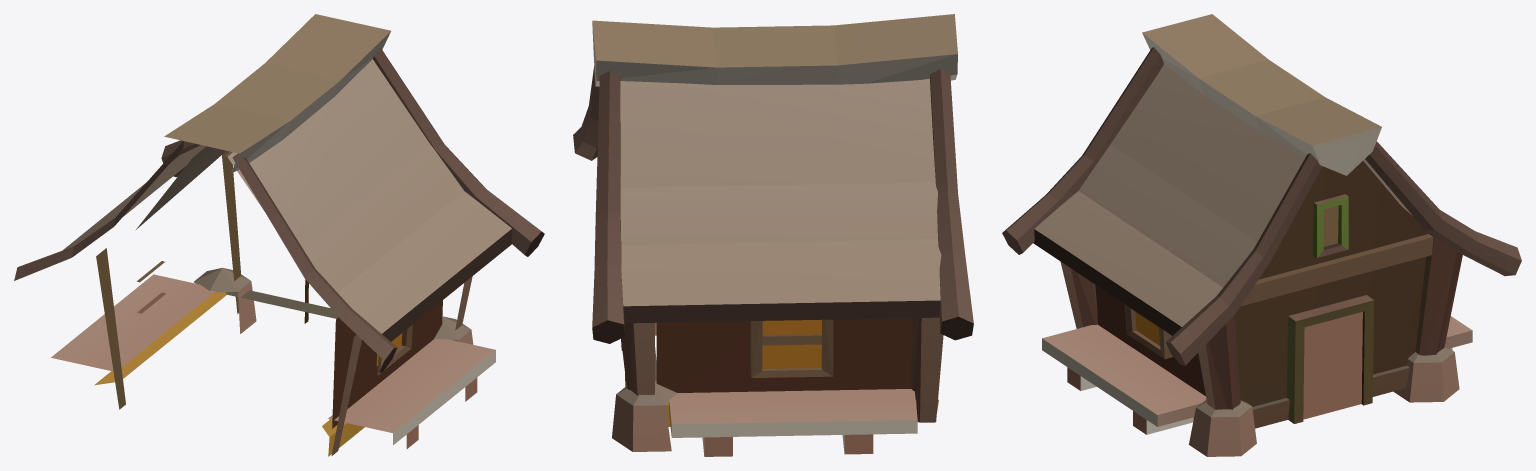
File: house001.gltf
3 views of the same model, side by side, from view 1: azimuth 30°, elevation 25°; view 2: azimuth 150°, elevation 25°; view 3: azimuth 270°, elevation 25° (orthographic). The views are drawn at different scales.
Visible parts, largest first — view 1: node_house001_-19486; view 2: node_house001_-19486; view 3: node_house001_-19486.
Boxes of the visible parts, bbox=[...] form: node_house001_-19486: bbox=[14, 14, 544, 456]; node_house001_-19486: bbox=[573, 14, 973, 456]; node_house001_-19486: bbox=[1002, 14, 1521, 456].
Size of the model in its own units: 8.44 by 5.54 by 8.79.
Materials: 1 (1 with a texture image).
